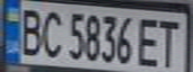3: (100, 11, 121, 63)
5: (63, 8, 84, 61)
6: (115, 12, 139, 65)
8: (81, 10, 103, 62)
B: (15, 3, 45, 56)
C: (39, 6, 66, 58)
E: (136, 14, 163, 68)
T: (154, 16, 187, 70)
